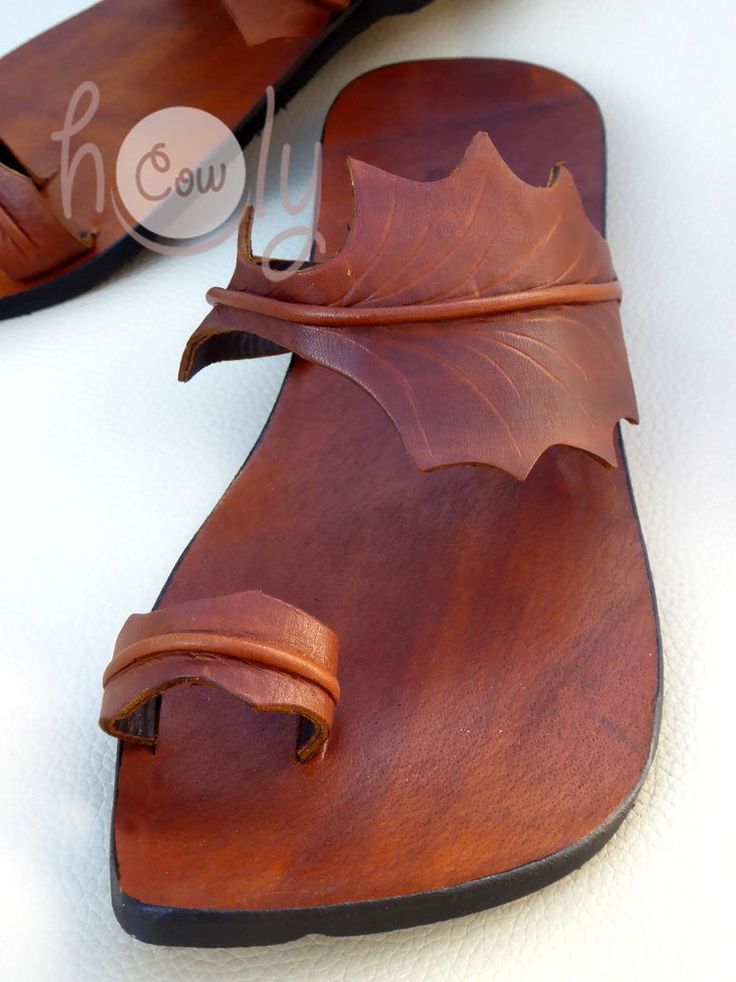cuero: (172, 129, 646, 482)
